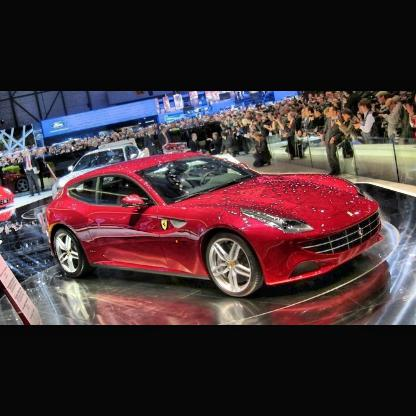Ferrari FF Coupe 2012: (45, 154, 386, 299)
